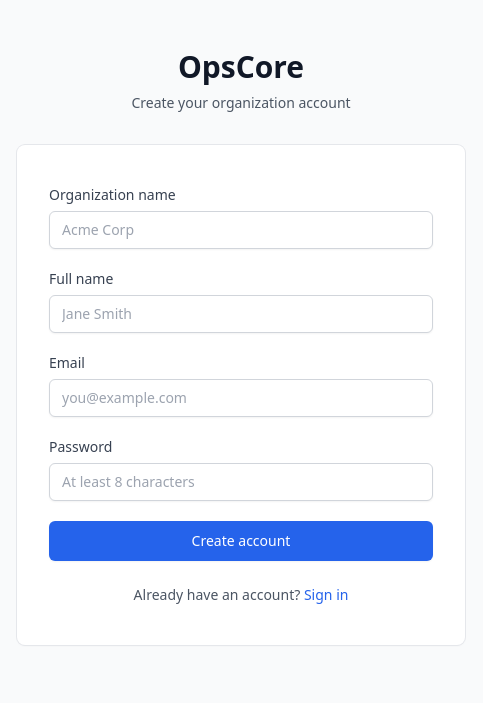
Test: Phase 11.2 Auth Pages Acceptance Tests › Register: validation shows errors for empty submit
What coordinates should you click on to do the following:
click the button "Create account"
I would click on:
 (241, 541)
Its box is [49,521,433,561].
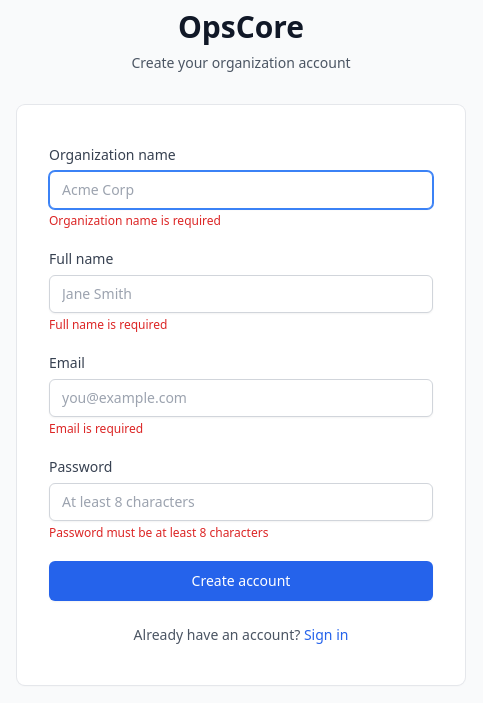
Result: the text "Organization name is required" is shown at [49,212,221,229]
Result: the text "Full name is required" is shown at [49,316,167,333]
Result: the text "Email is required" is shown at [49,420,143,437]
